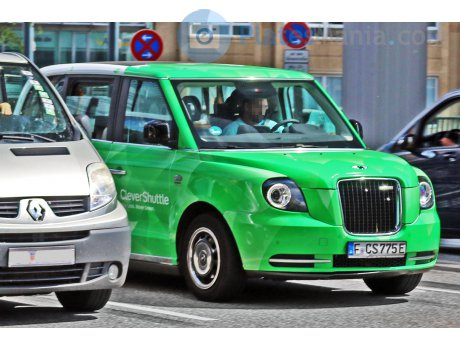License Plates: (350, 244, 406, 254)
